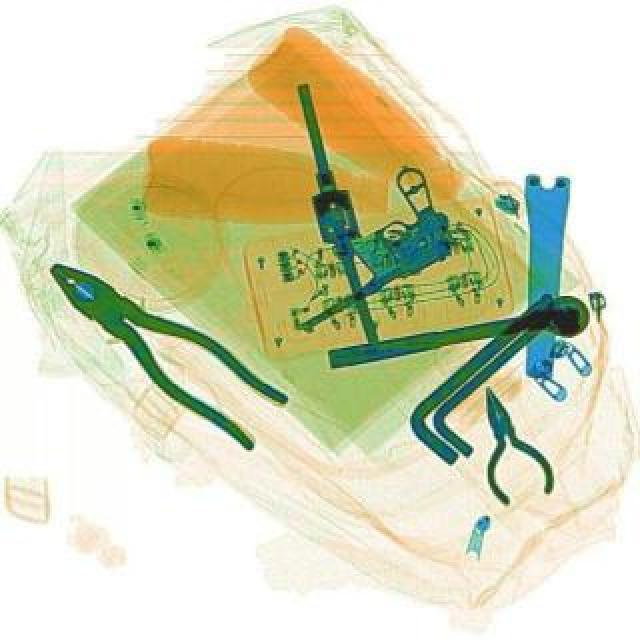gun: (250, 164, 476, 340)
wrench: (28, 238, 304, 458), (462, 382, 564, 514)
